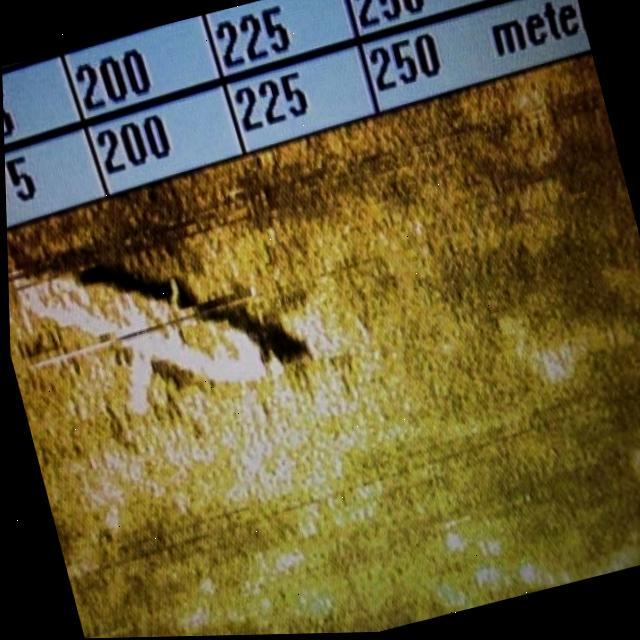shipwreck: (5, 207, 289, 451)
